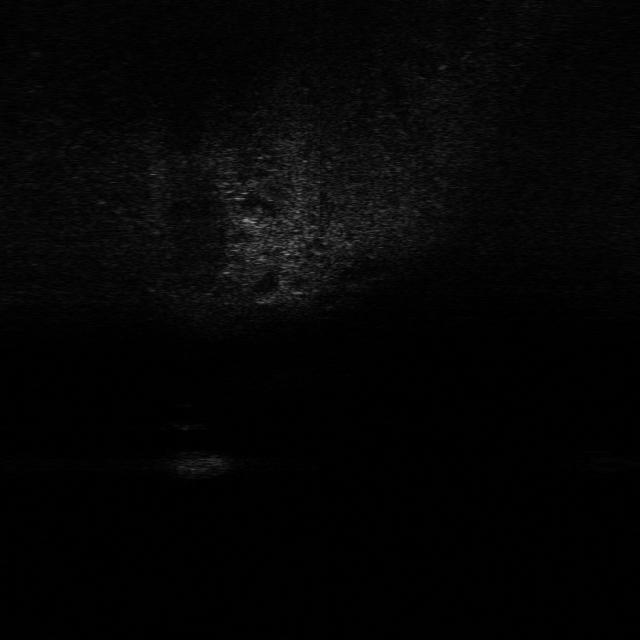ball: (166, 401, 207, 433)
circle cage: (166, 451, 234, 484)
